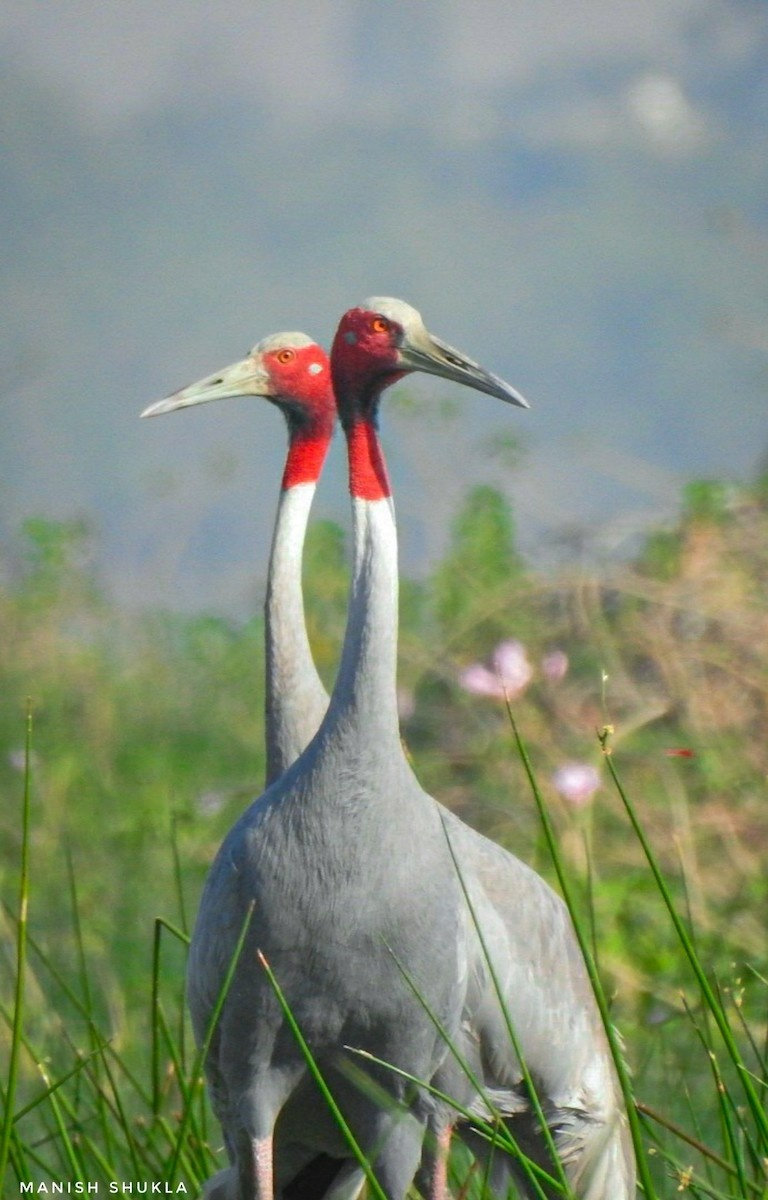crane: (317, 282, 535, 1164), (130, 312, 335, 733)
